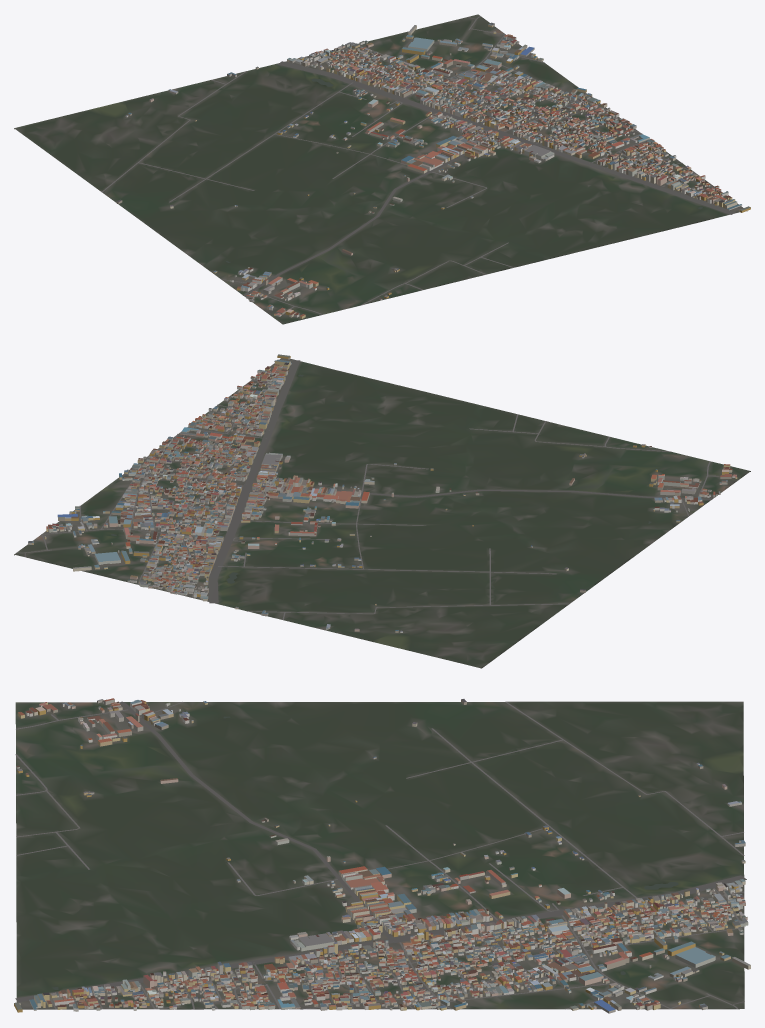
3 views of the same model, one above another, from view 1: azimuth 30°, elevation 25°; view 2: azimuth 150°, elevation 25°; view 3: azimuth 270°, elevation 25° (orthographic). The views are drawn at different scales.
Parts seen in each view (by area): view 1: ground, buildings, roads; view 2: ground, buildings, roads; view 3: ground, buildings, roads.
Part boxes in pixels (x1,y1,x2,y2): ground: (14,14,747,324); buildings: (116,22,750,318); roads: (101,16,735,314); ground: (14,358,750,668); buildings: (28,354,737,632); roads: (16,360,718,619); ground: (15,701,744,1009); buildings: (14,698,750,1013); roads: (15,701,746,1009).
Size of the model in its own units: 1425 by 25.55 by 1419.
